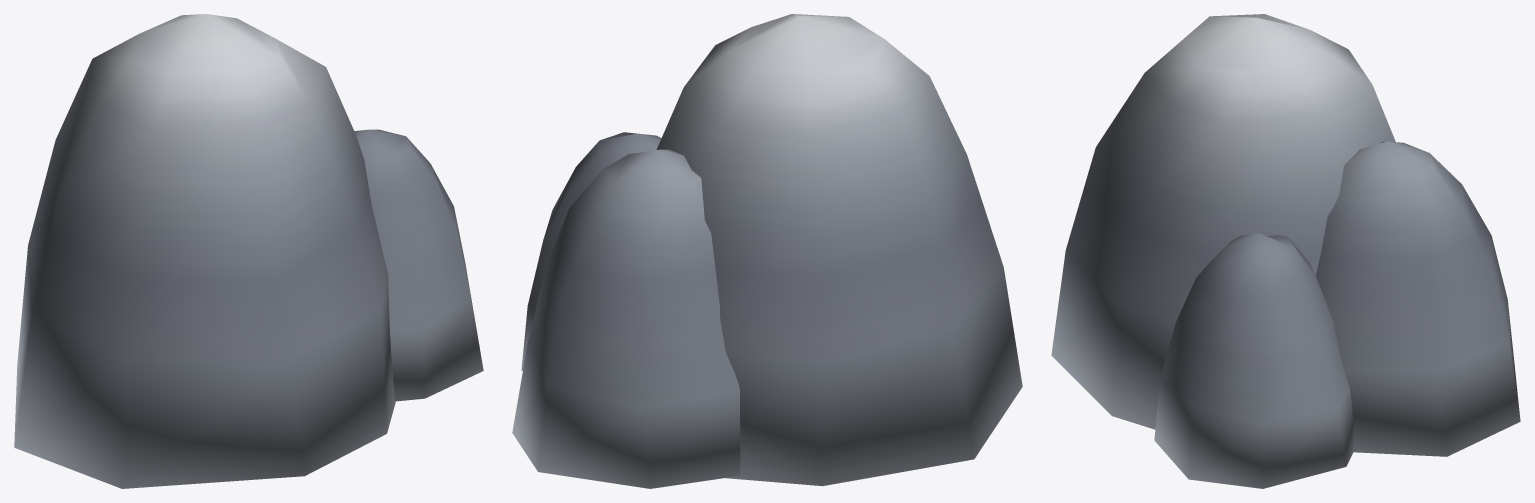
File: Rocks-big-new.fbx
The picture shows the model from 3 angles, left to right: view 1: azimuth 30°, elevation 25°; view 2: azimuth 150°, elevation 25°; view 3: azimuth 270°, elevation 25°; orthographic projection. The views are drawn at different scales.
Visible parts, largest first — view 1: pCube7; view 2: pCube7; view 3: pCube7.
Boxes of the visible parts, <box> form: pCube7: <box>14,14,483,488</box>; pCube7: <box>512,14,1022,488</box>; pCube7: <box>1051,14,1520,488</box>.
Bounding box in the file's own units: 0.6415 × 0.533 × 0.6271.
Materials: 2 (1 with a texture image).
